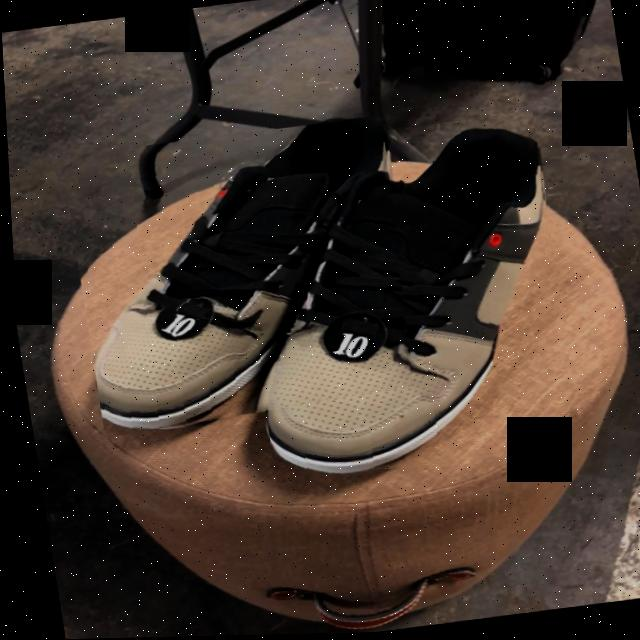shoe: (262, 133, 542, 476), (90, 118, 383, 431)
